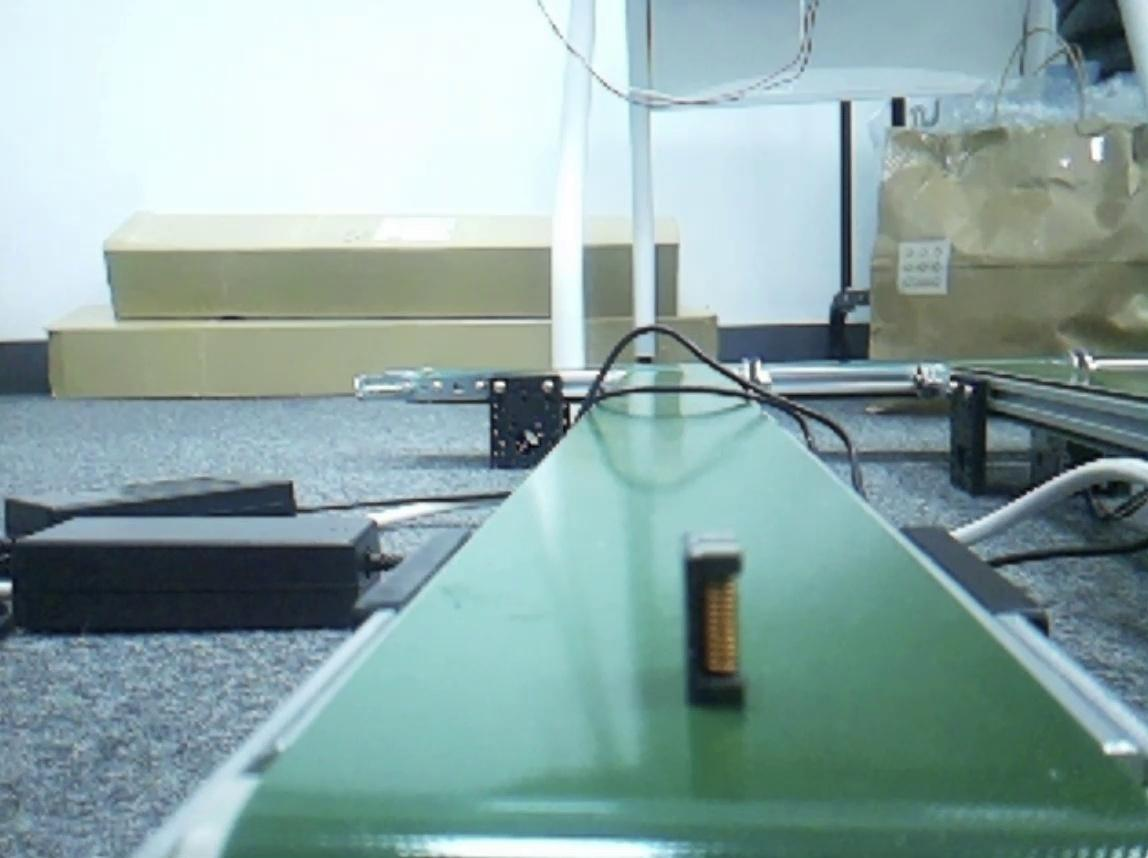inductor: (682, 530, 743, 712)
